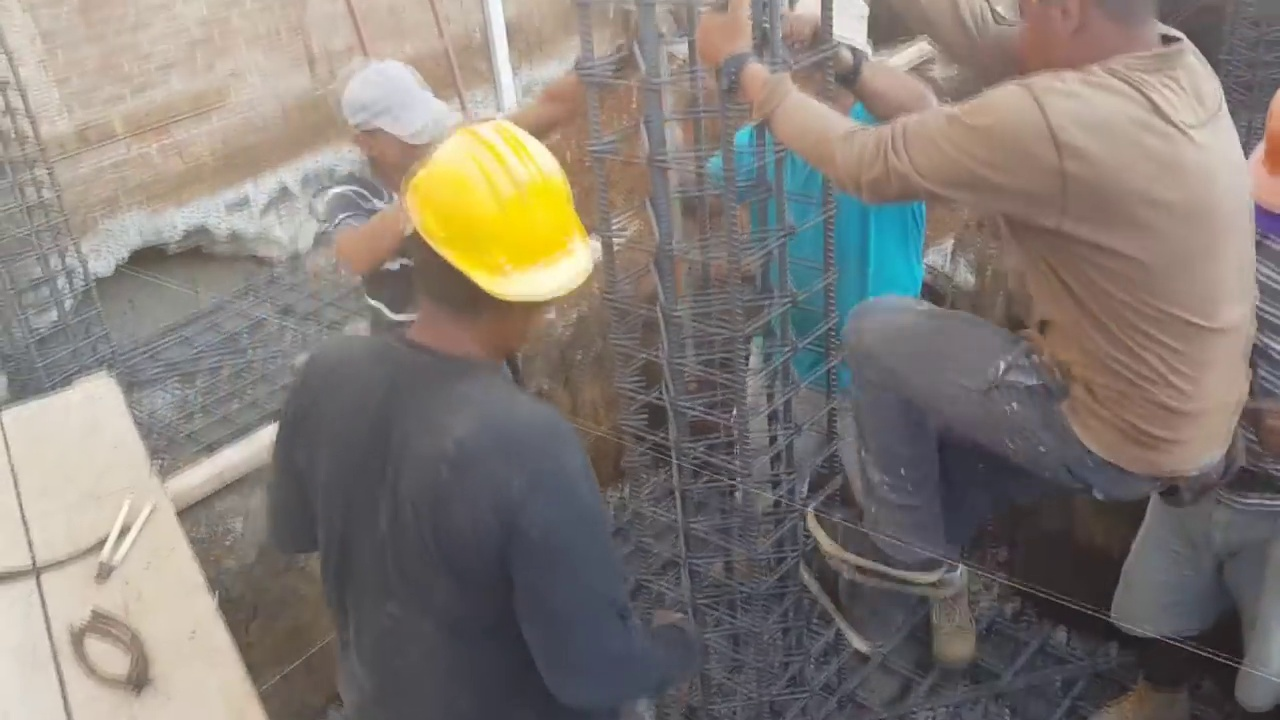helmet: (403, 110, 600, 310), (1240, 89, 1280, 219)
helmet-off: (338, 58, 461, 191), (768, 4, 872, 125)
helmet-on: (386, 109, 604, 369), (1238, 88, 1280, 254)
person: (721, 0, 1232, 707), (274, 110, 675, 720), (705, 3, 931, 563), (1112, 86, 1280, 719), (318, 59, 462, 345)
